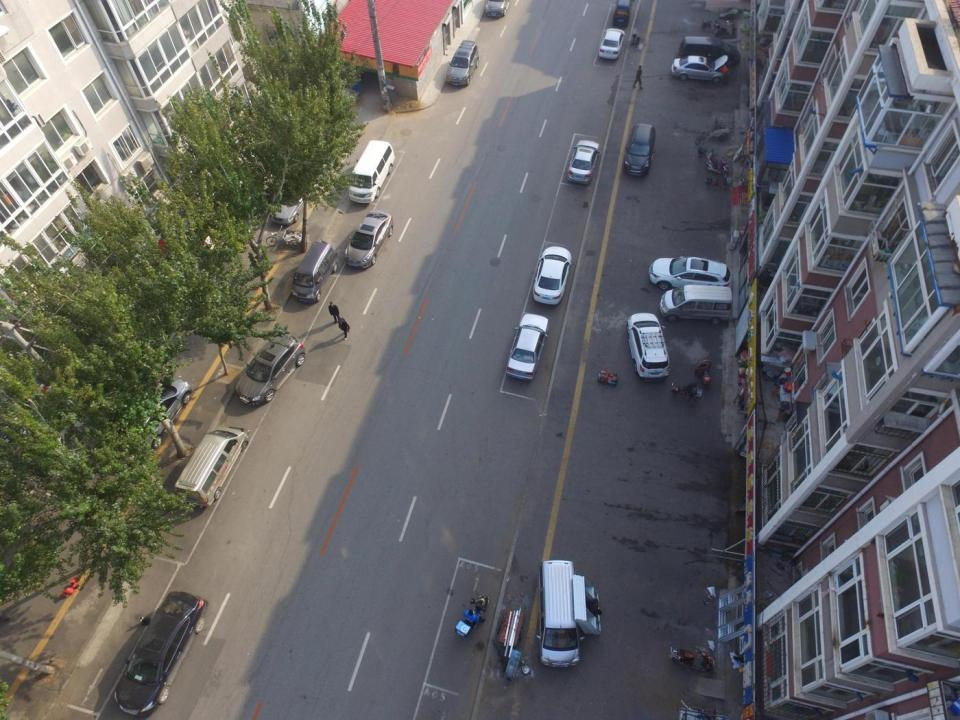car: (113, 590, 209, 718), (116, 378, 192, 456), (235, 332, 306, 406), (648, 255, 730, 299), (626, 311, 670, 383), (267, 164, 318, 226), (504, 313, 548, 382), (344, 209, 394, 269), (532, 245, 573, 306), (671, 54, 729, 86), (624, 122, 656, 178), (566, 139, 601, 185), (446, 40, 480, 86), (598, 28, 625, 60)
van: (173, 426, 249, 507), (536, 560, 586, 669), (348, 139, 396, 203), (659, 284, 732, 326), (291, 242, 338, 304), (678, 35, 742, 68), (611, 0, 634, 28)
